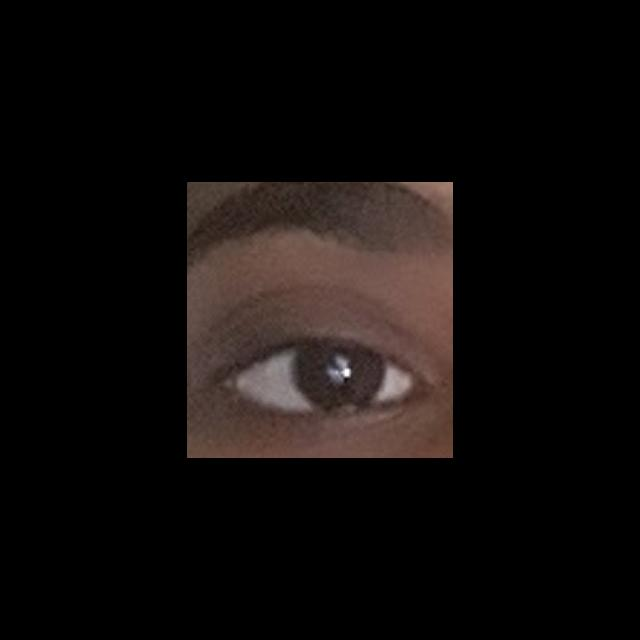eye: (237, 345, 416, 412)
iris: (293, 350, 384, 408)
